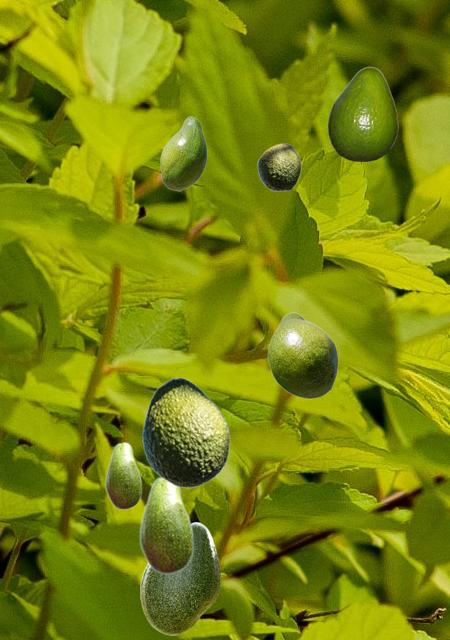avocado: (141, 377, 229, 487), (140, 522, 219, 634), (327, 66, 397, 160), (267, 312, 337, 398), (139, 476, 193, 574), (160, 116, 206, 190), (105, 441, 141, 509), (257, 143, 300, 190)
